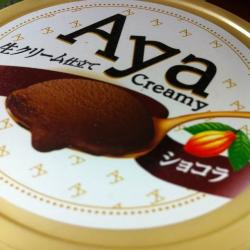icecream: (8, 70, 158, 171)
